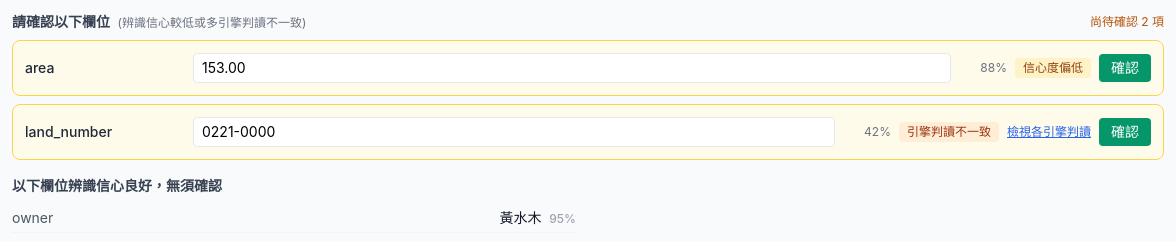
Test case: 使用者可逐欄位確認或修正 › 逐欄位獨立:確認其中一個不影響另一個
The width and height of the screenshot is (1176, 242).
Expected: the number of list items with test id "attention-row" is 2, [12, 40, 1164, 96]; [12, 104, 1164, 160]
Step 1. Click the button with test id "settle-button" next to "信心度偏低" → (1125, 68), box [1099, 54, 1151, 82]
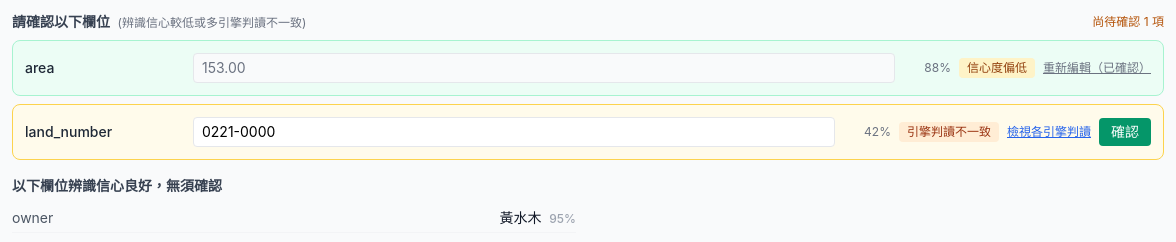
Expected: the number of buttons with test id "settle-button" is 1, [1099, 118, 1151, 146]
Now the text "尚待確認 1 項" is shown, box [1092, 14, 1164, 30]
